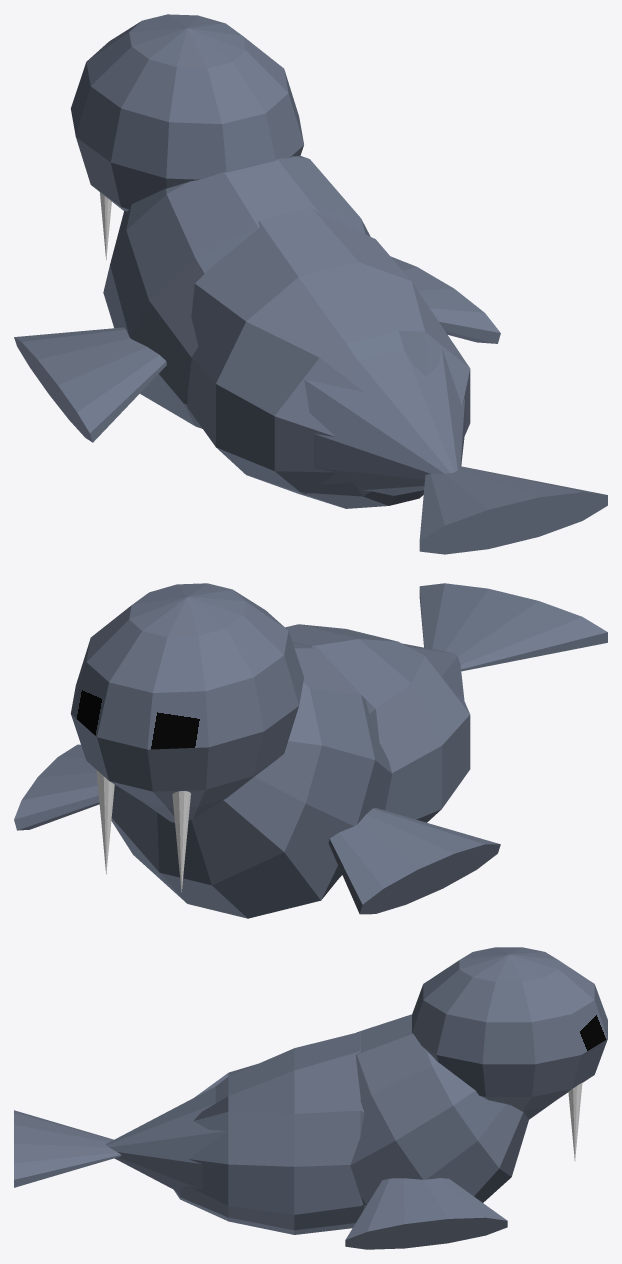
Rendered from foca.gltf.
3 renders of one model, top to bottom at view 1: azimuth 30°, elevation 25°; view 2: azimuth 150°, elevation 25°; view 3: azimuth 270°, elevation 25°, orthographic. The views are drawn at different scales.
Visible parts, largest first — view 1: sphere (×3), cone (×4); view 2: sphere (×3), cone (×6); view 3: sphere (×3), cone (×4).
Boxes of the visible parts, x1,y1,x2,y2 form: sphere (×3): [70, 14, 470, 508]; cone (×4): [14, 256, 607, 554]; sphere (×3): [70, 583, 470, 918]; cone (×6): [14, 583, 607, 914]; sphere (×3): [174, 947, 607, 1234]; cone (×4): [14, 1083, 582, 1249].
Size of the model in its own units: 1.36 by 1.12 by 2.25.
1 material, 1 textured.
